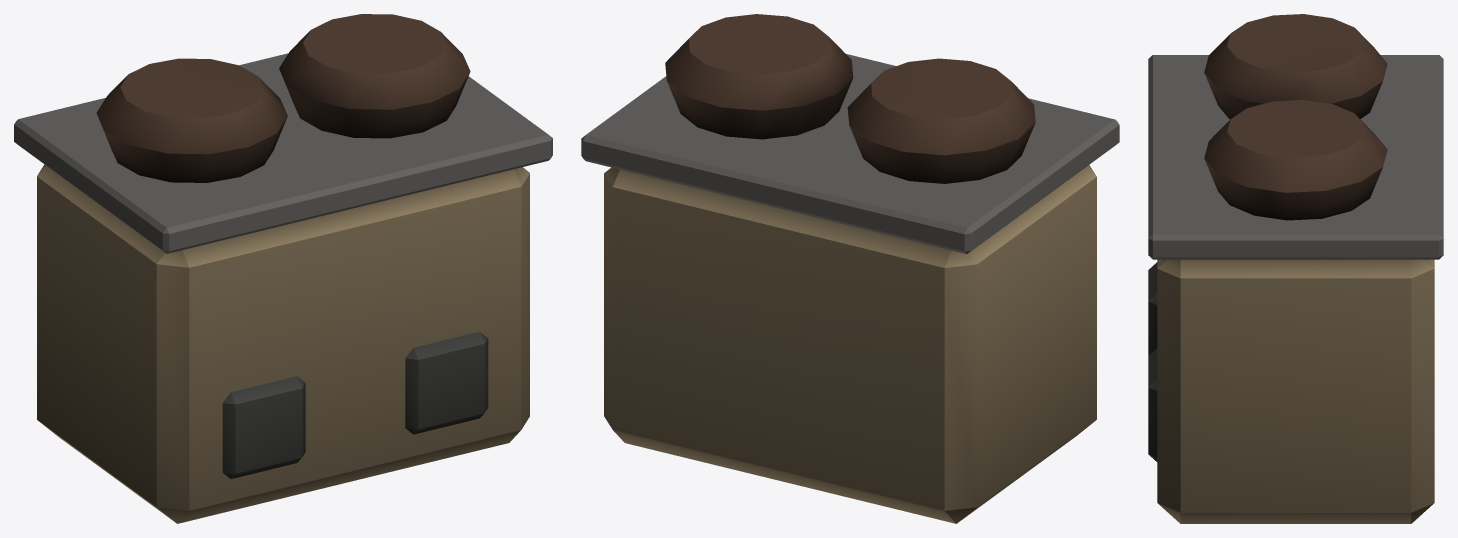
File: prop.kamado.mo.glb
3 renders of one model, left to right at view 1: azimuth 30°, elevation 25°; view 2: azimuth 150°, elevation 25°; view 3: azimuth 270°, elevation 25°, orthographic. The views are drawn at different scales.
Parts seen in each view (by area): view 1: LOD0; view 2: LOD0; view 3: LOD0.
Part boxes in pixels (x1=…): LOD0: x1=14, y1=14, x2=552, y2=523; LOD0: x1=581, y1=14, x2=1119, y2=523; LOD0: x1=1148, y1=14, x2=1443, y2=523.
Size of what is drawn, in the model's own units: 0.94 by 0.86 by 0.64.
